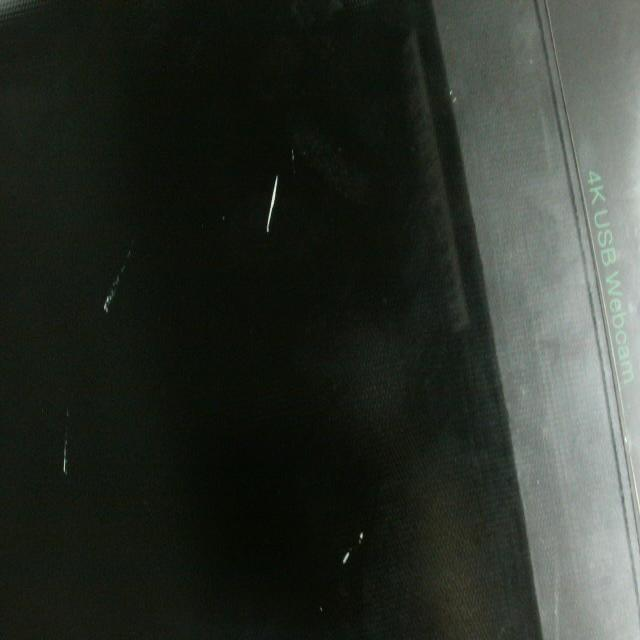scratch: (102, 240, 136, 318), (260, 165, 286, 238), (332, 526, 370, 572), (54, 398, 75, 480)
